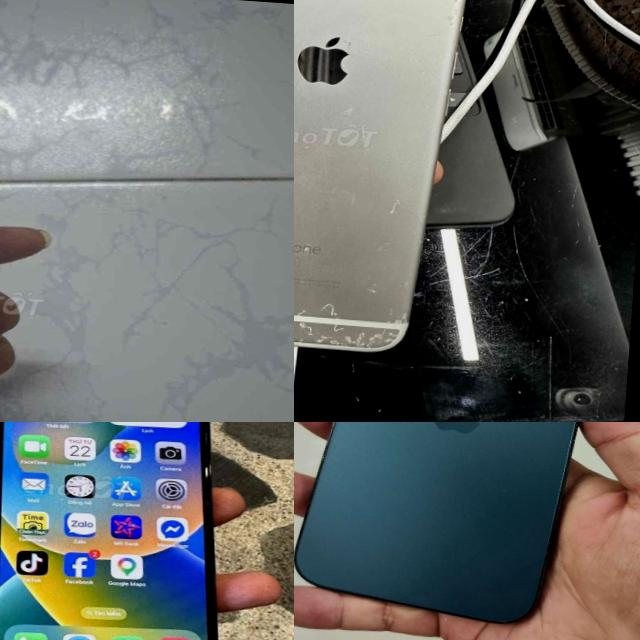scratch: (294, 261, 414, 353), (374, 176, 409, 236)
